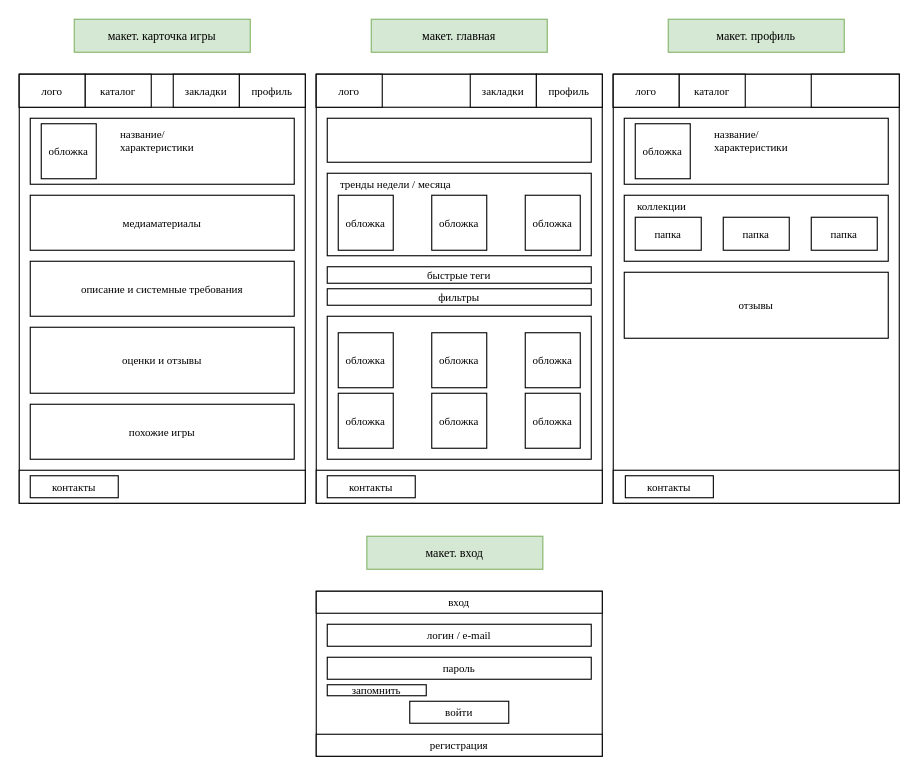
This 919x776 diagram has some shape labels left out. Here are the shapes that lost their labels. From the top down, the box of each, then its label:
(810, 73, 899, 107): профиль("user")
(326, 117, 591, 162): поиск
